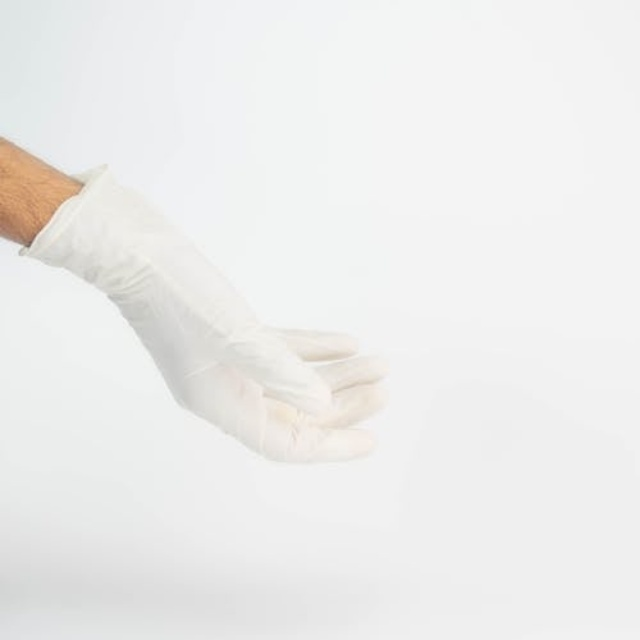Guantes: (20, 164, 389, 464)
